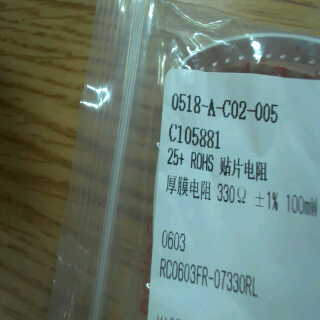330R: (212, 182, 250, 210)
